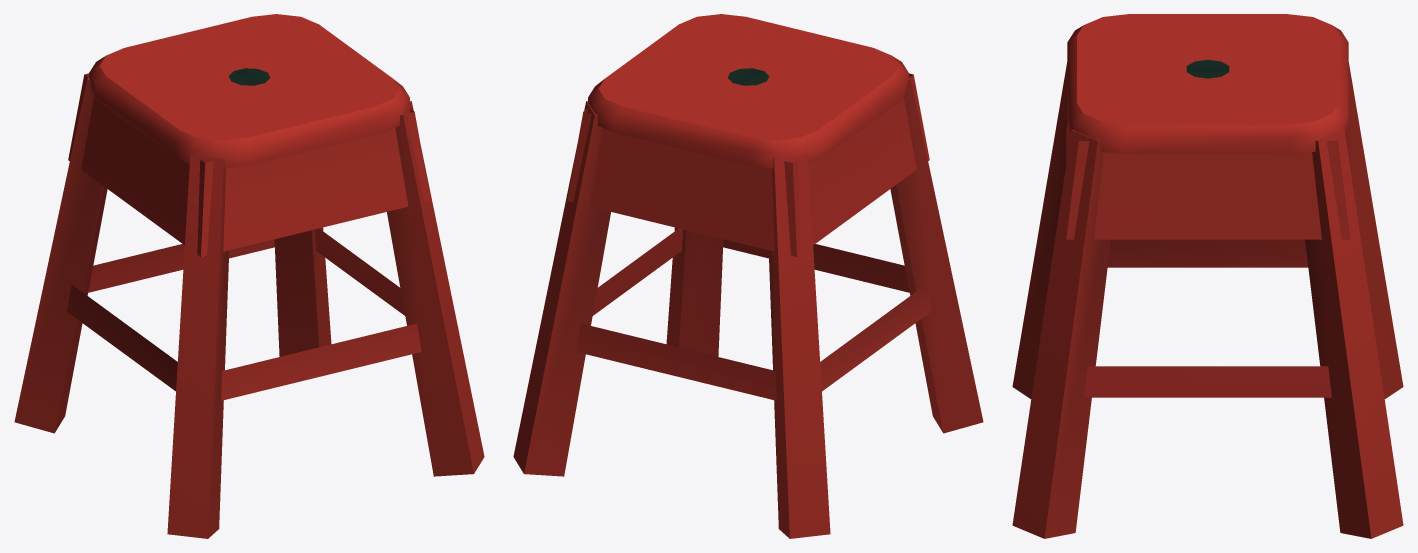
The model's file is ghe-dau-nhua.glb.
The picture shows the model from 3 angles, left to right: view 1: azimuth 30°, elevation 25°; view 2: azimuth 150°, elevation 25°; view 3: azimuth 270°, elevation 25°; orthographic projection. The views are drawn at different scales.
Visible parts, largest first — view 1: ghe-dau-nhua; view 2: ghe-dau-nhua; view 3: ghe-dau-nhua.
Part boxes in pixels (box(x1,y1,x2,y2)): ghe-dau-nhua: box(14, 14, 484, 538); ghe-dau-nhua: box(513, 14, 983, 538); ghe-dau-nhua: box(1012, 14, 1403, 538).
Bounding box in the file's own units: 0.4174 × 0.4647 × 0.4174.
